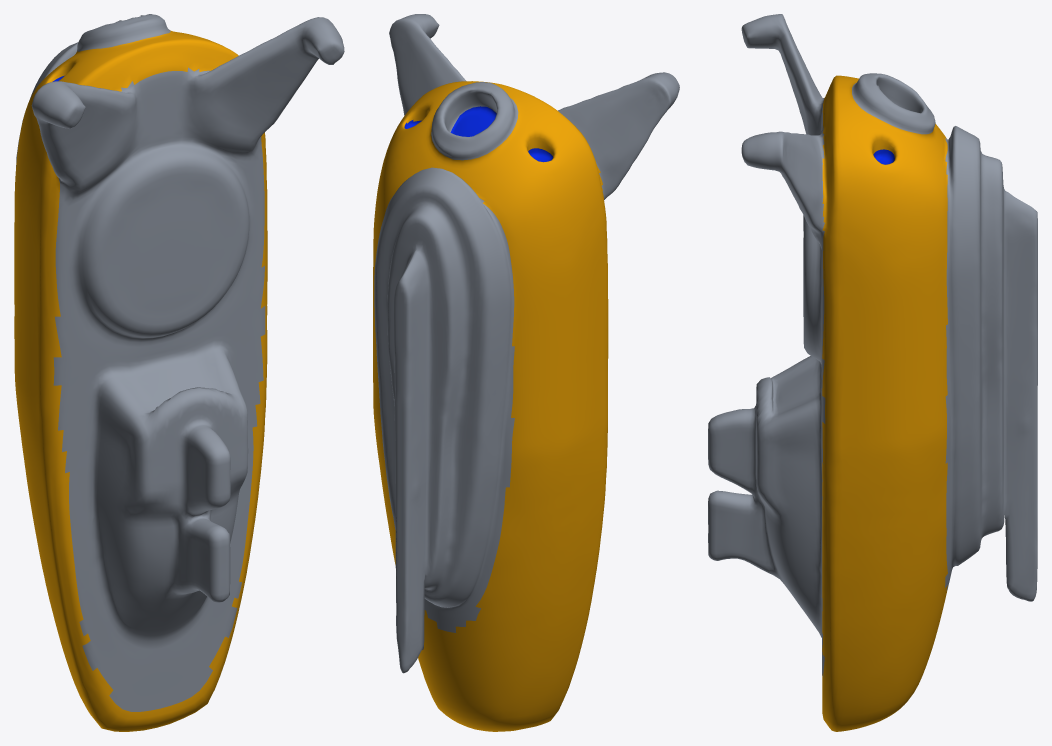
Rendered from Nave003P2.fbx.
3 views of the same model, side by side, from view 1: azimuth 30°, elevation 25°; view 2: azimuth 150°, elevation 25°; view 3: azimuth 270°, elevation 25° (orthographic). The views are drawn at different scales.
Visible parts, largest first — view 1: base; view 2: base; view 3: base.
Boxes of the visible parts, x1,y1,x2,y2 form: base: (14, 14, 344, 731); base: (373, 14, 679, 731); base: (708, 14, 1037, 731).
Size of the model in its own units: 172 by 380 by 176.
